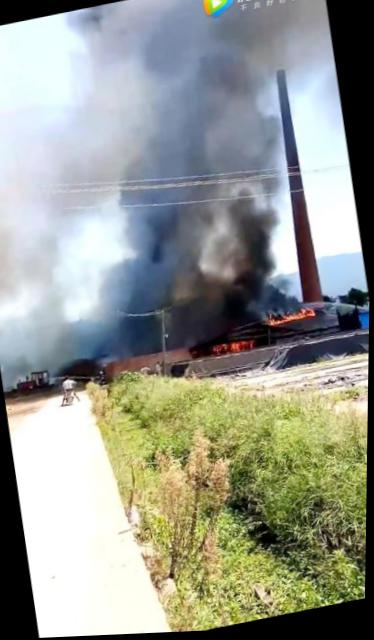fire: (209, 337, 253, 360), (267, 311, 312, 327)
